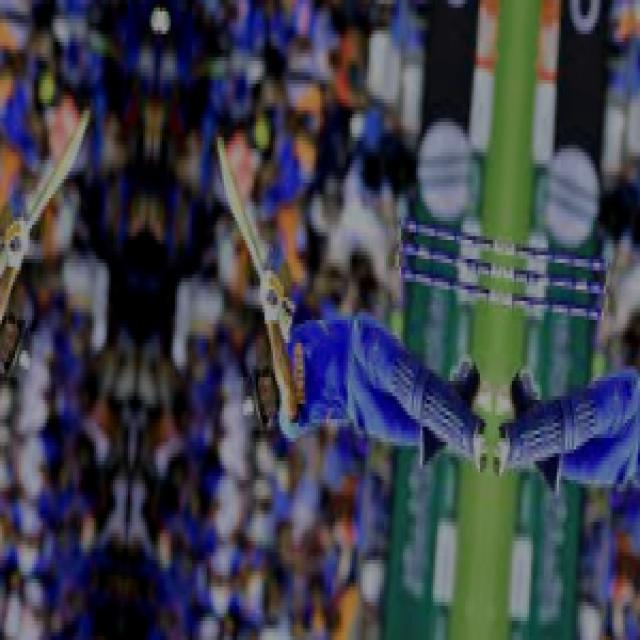toe: (212, 136, 231, 168)
